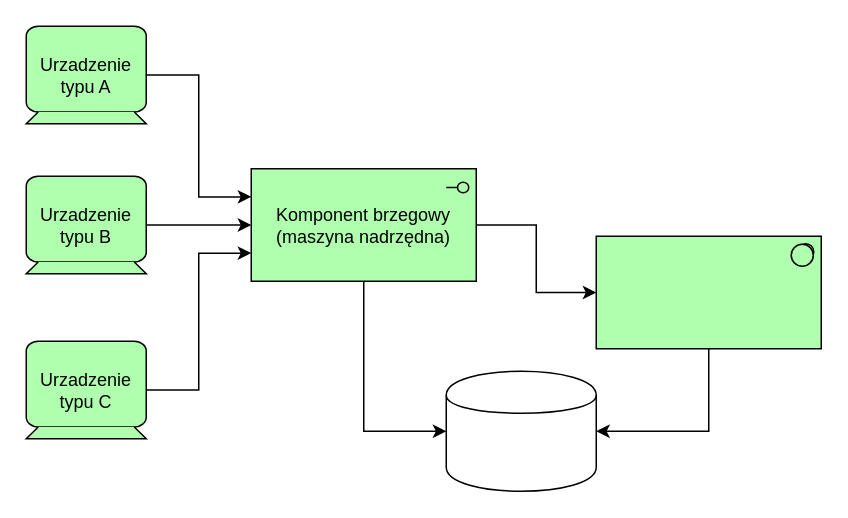
Image size: 848x518. Some labels were removed from this diagram. Each missing label, with the centre of its shape:
Jednostka pamięci zbiorów: the point at 520,430
Procesor główny (maszyna podległa): the point at 708,292
